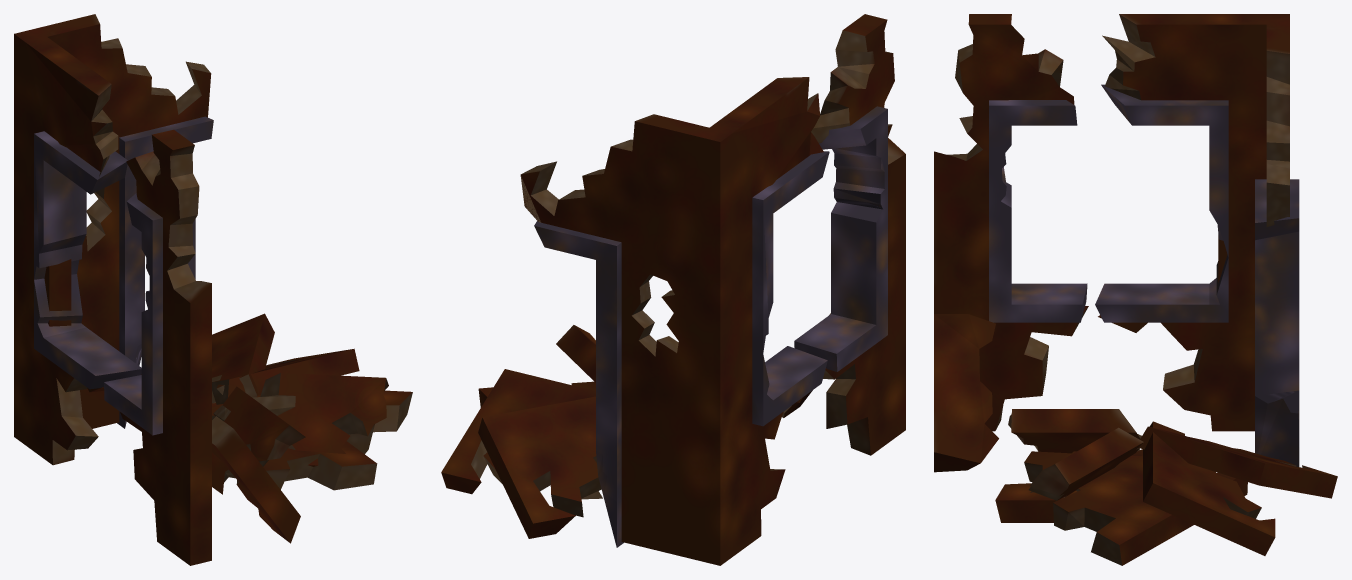
Rendered from debris.fbx.
The picture shows the model from 3 angles, left to right: view 1: azimuth 30°, elevation 25°; view 2: azimuth 150°, elevation 25°; view 3: azimuth 270°, elevation 25°; orthographic projection. The views are drawn at different scales.
Visible parts, largest first — view 1: Cube, Cube.001, Cube.004, Cube.002, Cube.003, Cube.005; view 2: Cube, Cube.001, Cube.002, Cube.004; view 3: Cube, Cube.001, Cube.002, Cube.003, Cube.005, Cube.004.
Boxes of the visible parts, left/top/right/bottom form: Cube: left=14, top=14, right=211, bottom=565; Cube.001: left=34, top=116, right=213, bottom=435; Cube.004: left=212, top=372, right=388, bottom=494; Cube.002: left=141, top=313, right=359, bottom=404; Cube.003: left=212, top=390, right=412, bottom=490; Cube.005: left=212, top=415, right=300, bottom=543; Cube: left=520, top=14, right=905, bottom=565; Cube.001: left=534, top=106, right=887, bottom=547; Cube.002: left=441, top=369, right=601, bottom=538; Cube.004: left=556, top=325, right=595, bottom=382; Cube: left=934, top=14, right=1289, bottom=431; Cube.001: left=989, top=84, right=1299, bottom=466; Cube.002: left=1138, top=421, right=1337, bottom=555; Cube.003: left=995, top=449, right=1247, bottom=565; Cube.005: left=934, top=314, right=998, bottom=472; Cube.004: left=1008, top=409, right=1143, bottom=500.
Bounding box in the file's own units: 895 × 955 × 1067.
Materials: 2 (2 with a texture image).
